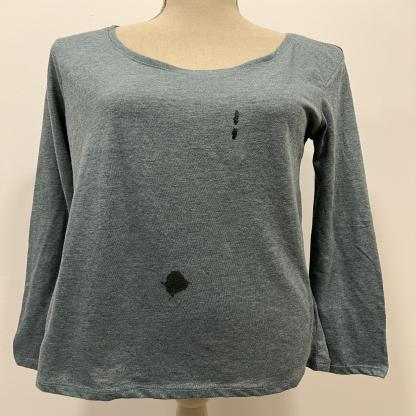stain: (157, 268, 194, 302), (231, 108, 241, 127), (228, 127, 240, 142)
